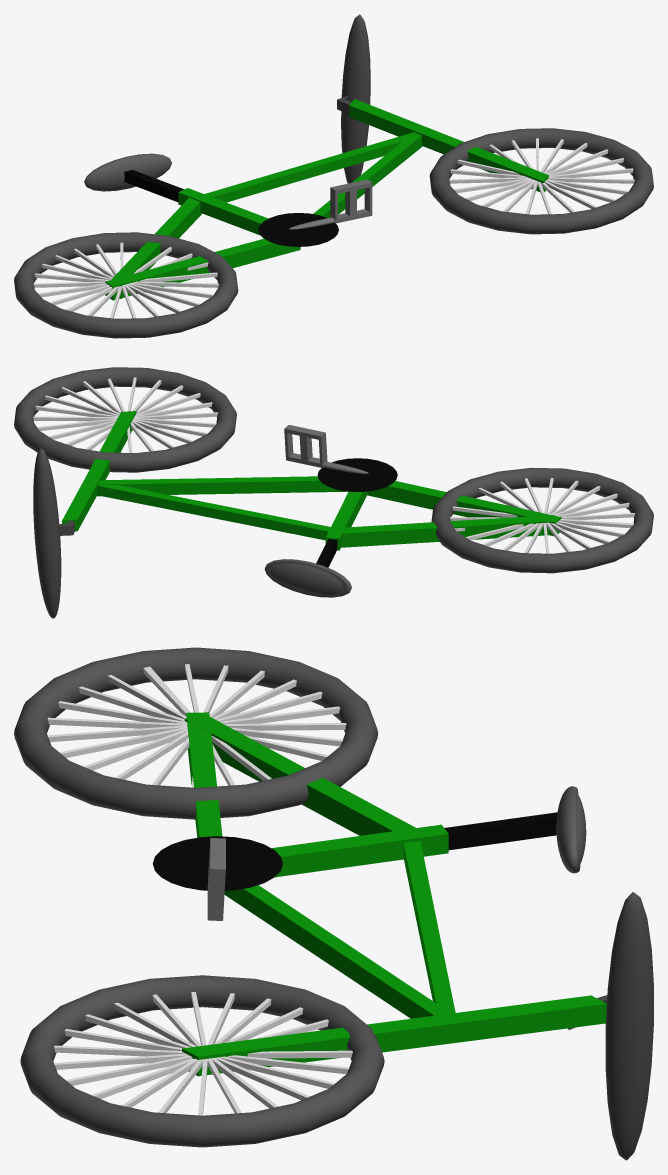
The model's file is Bike_Green.fbx.
The picture shows the model from 3 angles, top to bottom: view 1: azimuth 30°, elevation 25°; view 2: azimuth 150°, elevation 25°; view 3: azimuth 270°, elevation 25°; orthographic projection. The views are drawn at different scales.
Visible parts, largest first — view 1: pasted__pasted__pTorus1, pasted__pTorus1, pasted__pCube2 (×2), pSphere1, pCube3, pCube1, pDisc1, pSphere2, pasted__pCube1, pasted__pCube3, pCube2, pCube4; view 2: pasted__pTorus1, pasted__pasted__pTorus1, pSphere1, pCube3, pasted__pCube1, pasted__pCube3, pasted__pCube2 (×2), pSphere2, pCube1, pDisc1, pCube4, pCube2; view 3: pasted__pasted__pTorus1, pasted__pTorus1, pasted__pCube2 (×2), pSphere1, pasted__pasted__pasted__pasted__pasted__pasted__pasted__pCub (×10), pasted__pasted__pasted__pasted__pasted__pasted__pasted__past (×10), pasted__pCube3, pasted__pCube1, pCube2, pDisc1, pCube3, pCube1 (+2 smaller).
Part boxes in pixels (left/top/right/bottom): pasted__pasted__pTorus1: left=429, top=128, right=653, bottom=234; pasted__pTorus1: left=14, top=232, right=238, bottom=338; pasted__pCube2 (×2): left=124, top=99, right=548, bottom=201; pSphere1: left=341, top=14, right=370, bottom=183; pCube3: left=204, top=132, right=413, bottom=202; pCube1: left=105, top=239, right=300, bottom=300; pDisc1: left=258, top=213, right=338, bottom=246; pSphere2: left=84, top=153, right=171, bottom=191; pasted__pCube1: left=108, top=197, right=202, bottom=298; pasted__pCube3: left=295, top=132, right=422, bottom=248; pCube2: left=178, top=188, right=268, bottom=235; pCube4: left=330, top=179, right=372, bottom=223; pasted__pTorus1: left=431, top=467, right=653, bottom=573; pasted__pasted__pTorus1: left=14, top=367, right=236, bottom=472; pSphere1: left=33, top=448, right=61, bottom=618; pCube3: left=97, top=485, right=330, bottom=540; pasted__pCube1: left=341, top=515, right=555, bottom=547; pasted__pCube3: left=97, top=476, right=346, bottom=496; pasted__pCube2 (×2): left=62, top=411, right=337, bottom=567; pSphere2: left=264, top=559, right=351, bottom=597; pCube1: left=367, top=481, right=561, bottom=536; pDisc1: left=317, top=458, right=397, bottom=492; pCube4: left=284, top=425, right=327, bottom=467; pCube2: left=325, top=491, right=368, bottom=550; pasted__pasted__pTorus1: left=20, top=975, right=384, bottom=1147; pasted__pTorus1: left=14, top=647, right=378, bottom=819; pasted__pCube2 (×2): left=182, top=812, right=606, bottom=1076; pSphere1: left=605, top=892, right=653, bottom=1160; pasted__pasted__pasted__pasted__pasted__pasted__pasted__pCub (×10): left=47, top=686, right=346, bottom=770; pasted__pasted__pasted__pasted__pasted__pasted__pasted__past (×10): left=54, top=1014, right=352, bottom=1100; pasted__pCube3: left=224, top=885, right=450, bottom=1018; pasted__pCube1: left=184, top=713, right=415, bottom=835; pCube2: left=271, top=824, right=448, bottom=877; pDisc1: left=152, top=836, right=282, bottom=890; pCube3: left=403, top=840, right=455, bottom=1013; pCube1: left=186, top=712, right=222, bottom=837.
Size of the model in its own units: 21.39 by 5.7 by 11.98.
